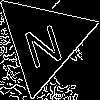N: (19, 15, 66, 70)
